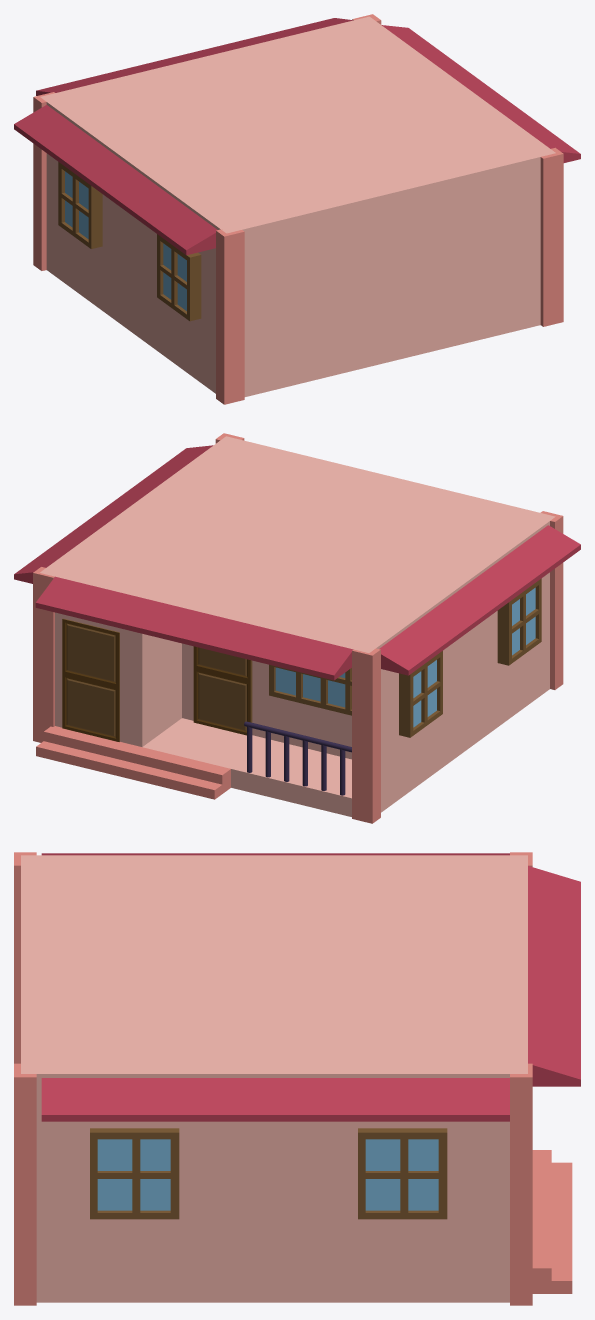
Rendered from Pink Building 1.fbx.
3 renders of one model, top to bottom at view 1: azimuth 30°, elevation 25°; view 2: azimuth 150°, elevation 25°; view 3: azimuth 270°, elevation 25°, orthographic. The views are drawn at different scales.
Parts seen in each view (by area): view 1: Cube.070; view 2: Cube.070; view 3: Cube.070.
Boxes of the visible parts, x1=… form: Cube.070: x1=14, y1=14, x2=580, y2=404; Cube.070: x1=14, y1=433, x2=580, y2=823; Cube.070: x1=14, y1=852, x2=580, y2=1305.
Bounding box in the file's own units: 958 × 390 × 877.
